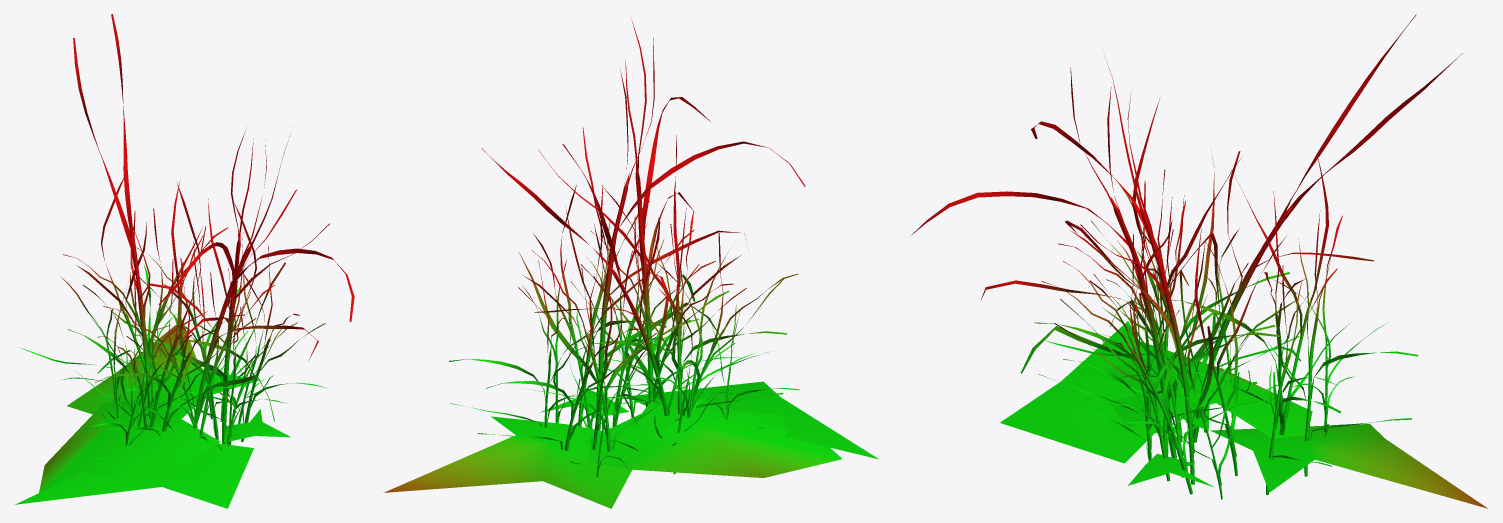
The model's file is Kikuyu Grass_LOD1_Var12_wiljearqx.fbx.
The picture shows the model from 3 angles, left to right: view 1: azimuth 30°, elevation 25°; view 2: azimuth 150°, elevation 25°; view 3: azimuth 270°, elevation 25°; orthographic projection. The views are drawn at different scales.
Parts seen in each view (by area): view 1: _zl07_Var12_LOD1; view 2: _zl07_Var12_LOD1; view 3: _zl07_Var12_LOD1.
Boxes of the visible parts, x1,y1,x2,y2 form: _zl07_Var12_LOD1: [15, 14, 354, 508]; _zl07_Var12_LOD1: [383, 19, 878, 508]; _zl07_Var12_LOD1: [911, 14, 1487, 508].
Size of the model in its own units: 35.2 by 37.65 by 45.59.
